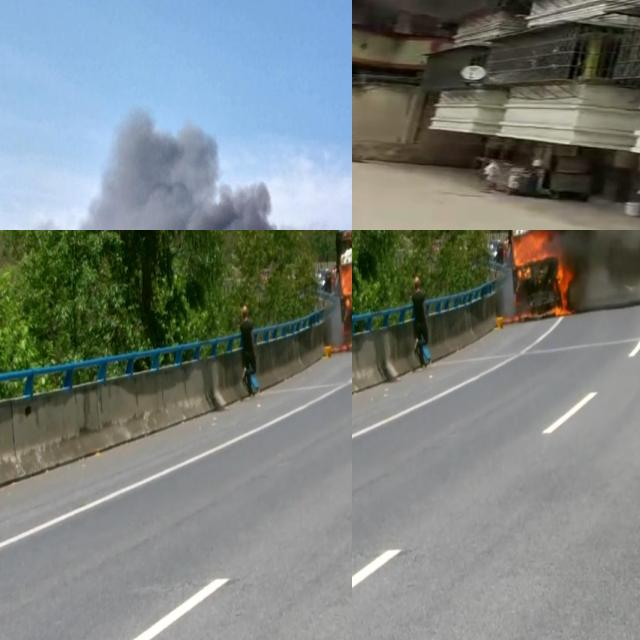fire: (501, 230, 572, 321), (329, 256, 352, 350)
smoke: (10, 100, 352, 230)
